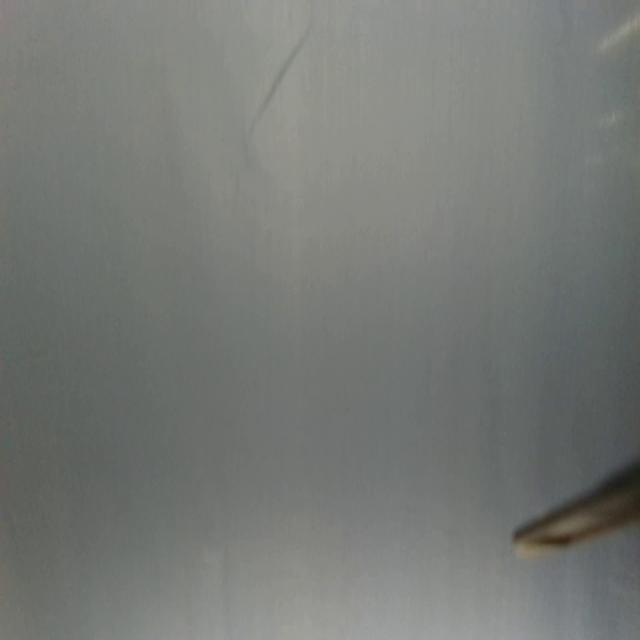crease: (252, 28, 318, 131)
